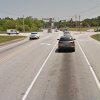Car: (54, 32, 75, 54)
